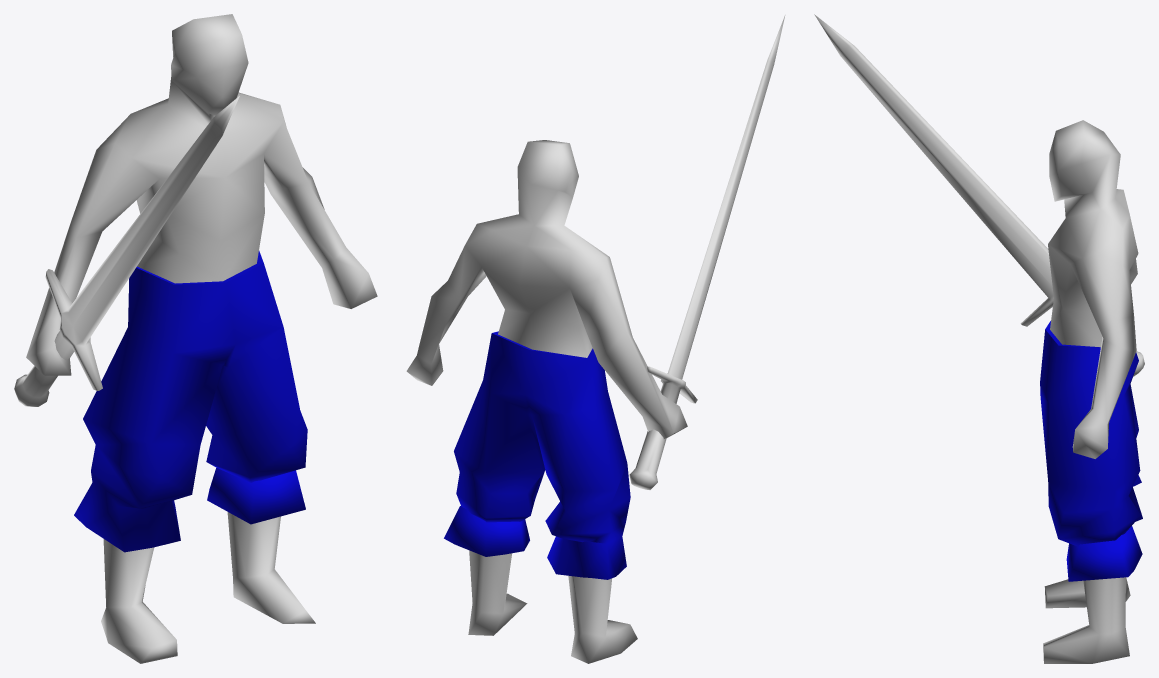
The model's file is GuerrierAllié.fbx.
The picture shows the model from 3 angles, left to right: view 1: azimuth 30°, elevation 25°; view 2: azimuth 150°, elevation 25°; view 3: azimuth 270°, elevation 25°; orthographic projection. The views are drawn at different scales.
Visible parts, largest first — view 1: Cylinder.001; view 2: Cylinder.001; view 3: Cylinder.001.
Part boxes in pixels (left/top/right/bottom): Cylinder.001: left=14, top=14, right=377, bottom=663; Cylinder.001: left=406, top=15, right=785, bottom=663; Cylinder.001: left=814, top=14, right=1144, bottom=663.
Bounding box in the file's own units: 107 × 210 × 112.
